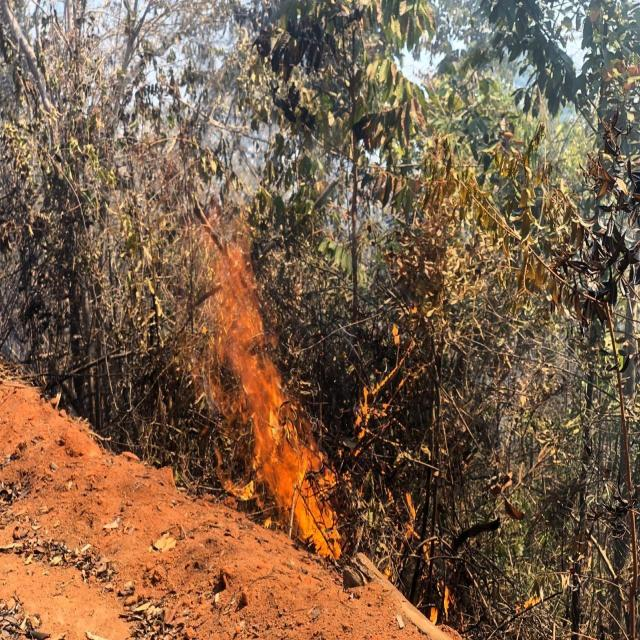Fire: (204, 243, 354, 561)
